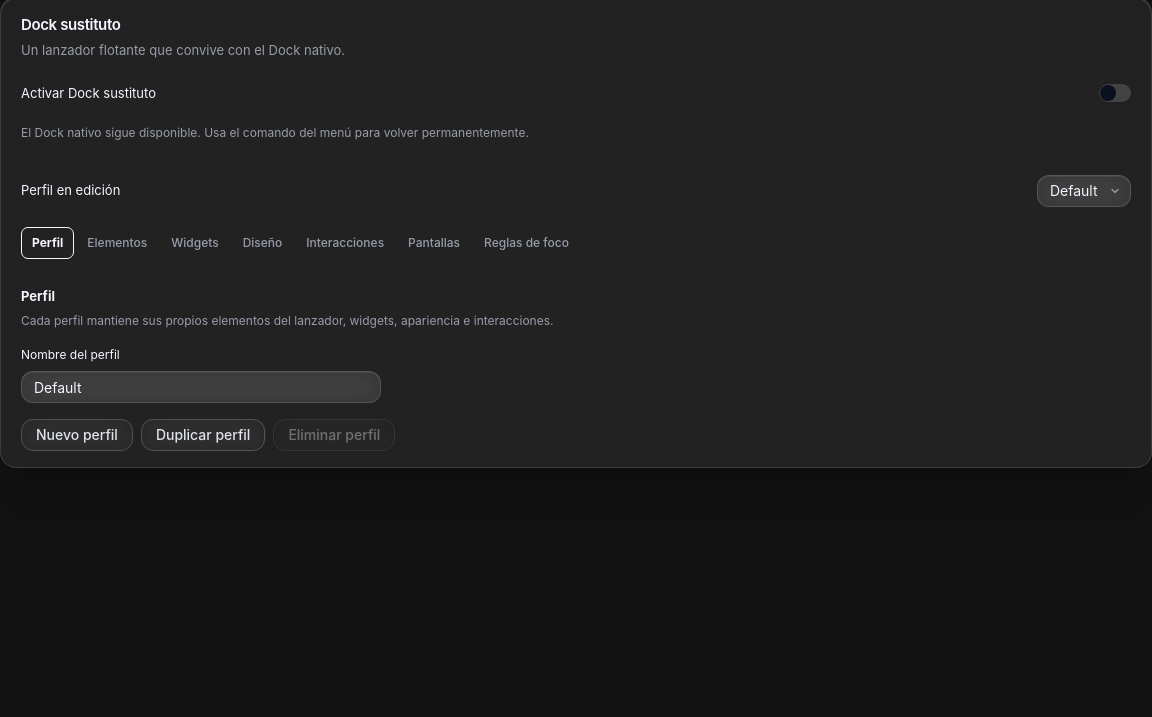
it: ReplacementDock › renders localized magnification controls in es
Click the button "Diseño" at (263, 243), box x1=232 y1=227 x2=293 y2=259
(page scrolled)
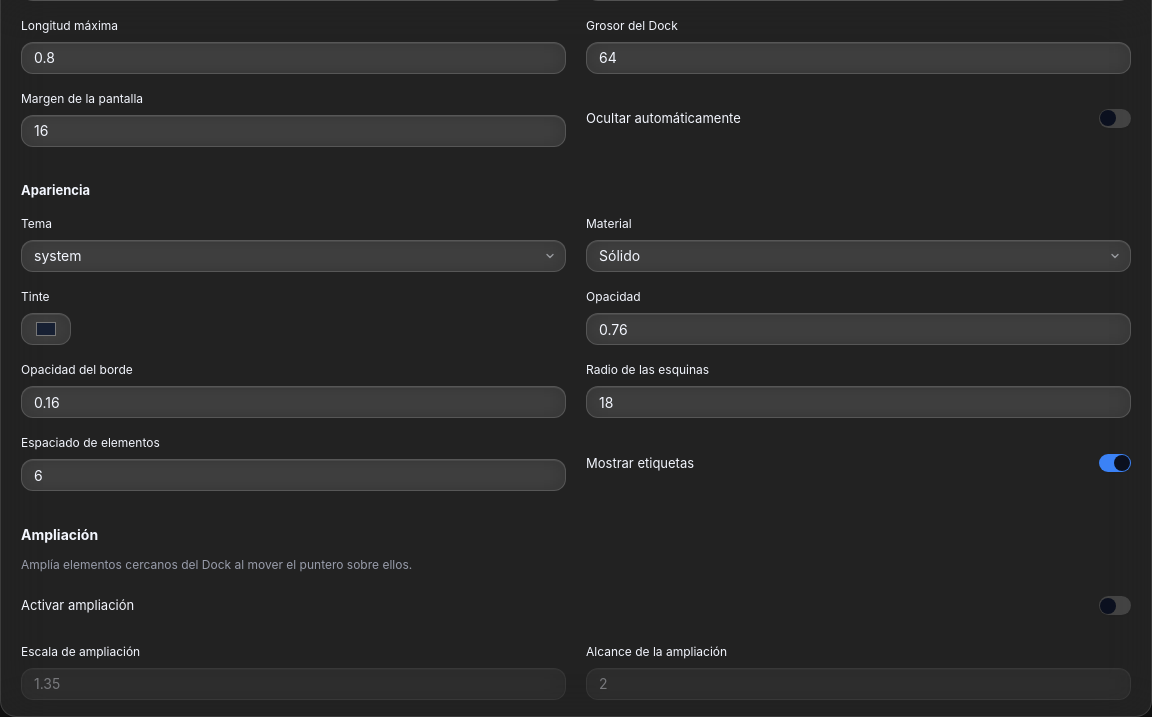
Result: the text "Activar ampliación" is shown at x1=21 y1=596 x2=134 y2=615
Result: the text "Escala de ampliación" is shown at x1=21 y1=644 x2=140 y2=659
